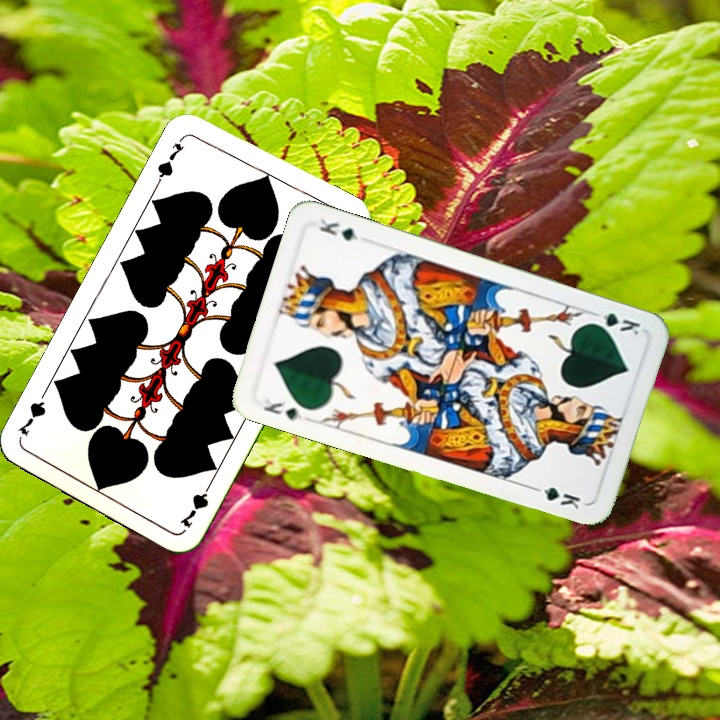G7: (175, 476, 216, 531), (153, 132, 188, 186)
GK: (585, 307, 643, 338), (259, 394, 305, 423)
